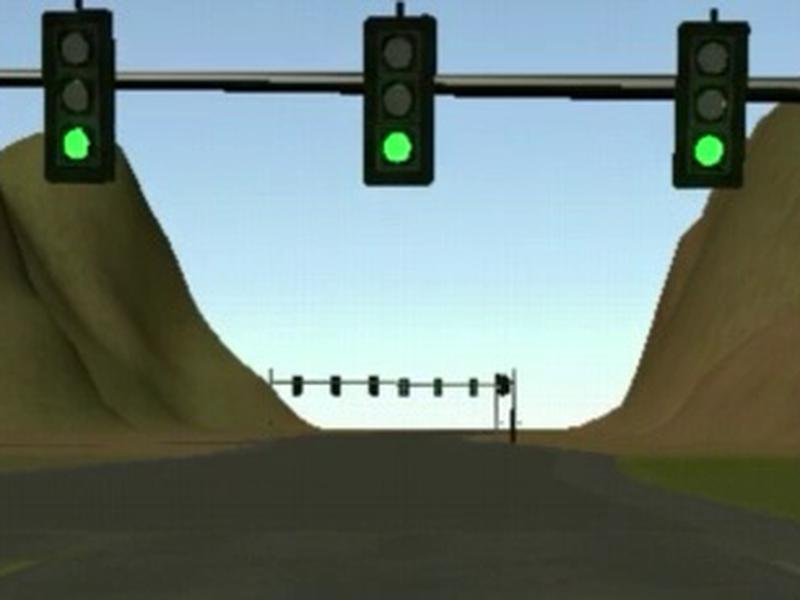Green: (673, 19, 753, 187), (41, 7, 114, 184), (363, 13, 437, 185)
